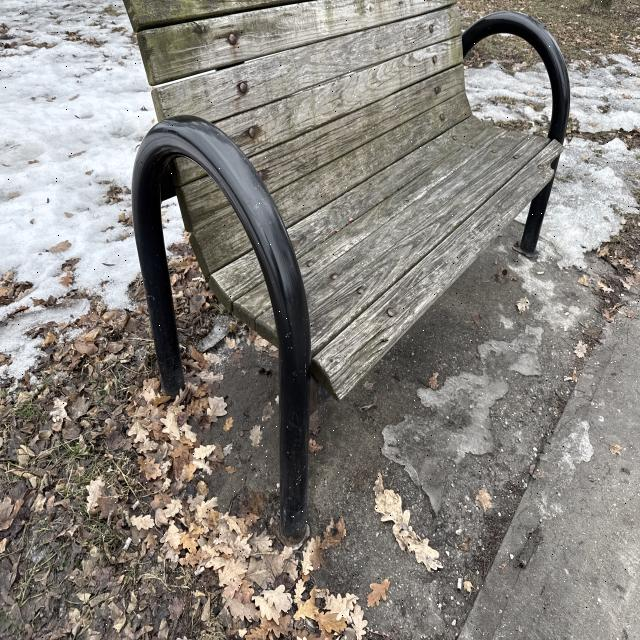Bench: (123, 0, 414, 504), (140, 23, 588, 282)
